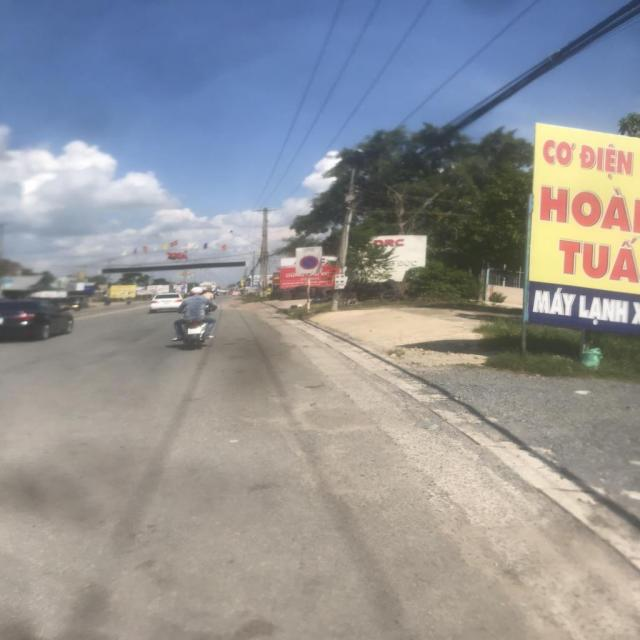cam_do_xe: (299, 254, 320, 270)
